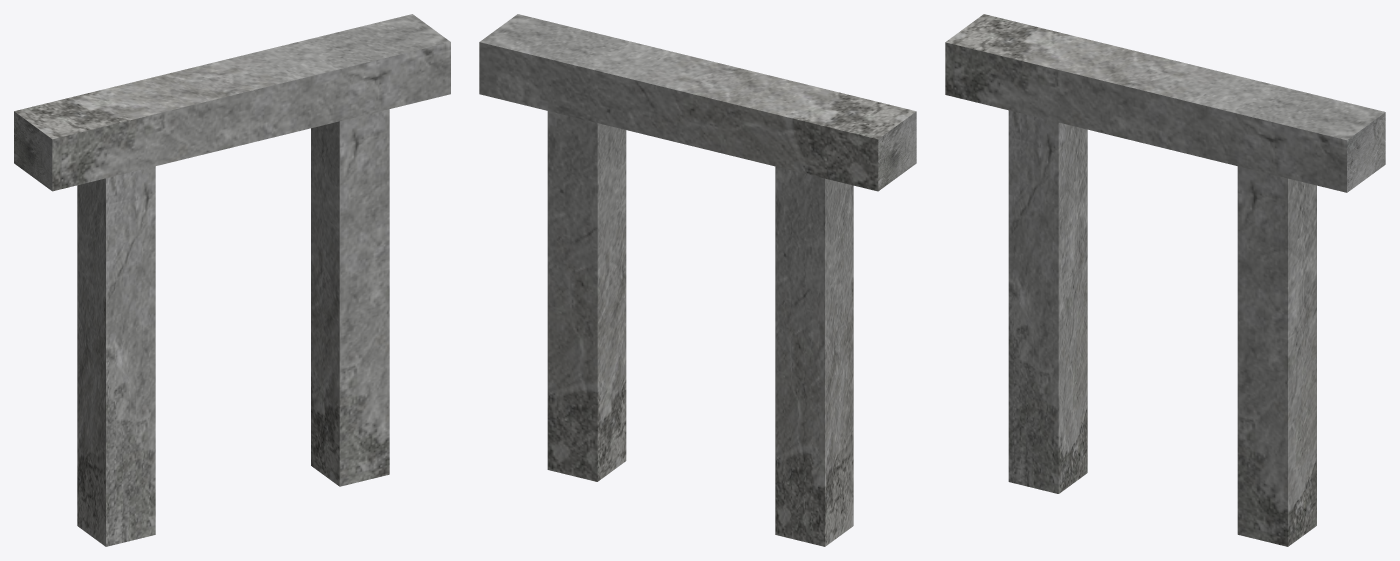
The model's file is Portale.gltf.
3 renders of one model, left to right at view 1: azimuth 30°, elevation 25°; view 2: azimuth 150°, elevation 25°; view 3: azimuth 330°, elevation 25°, orthographic.
Parts seen in each view (by area): view 1: Portale; view 2: Portale; view 3: Portale.
Part boxes in pixels (x1,y1,x2,y2): Portale: (14, 14, 450, 546); Portale: (479, 14, 916, 546); Portale: (945, 14, 1385, 546).
Size of the model in its own units: 16 by 16.31 by 2.67.
Materials: 2 (2 with a texture image).
